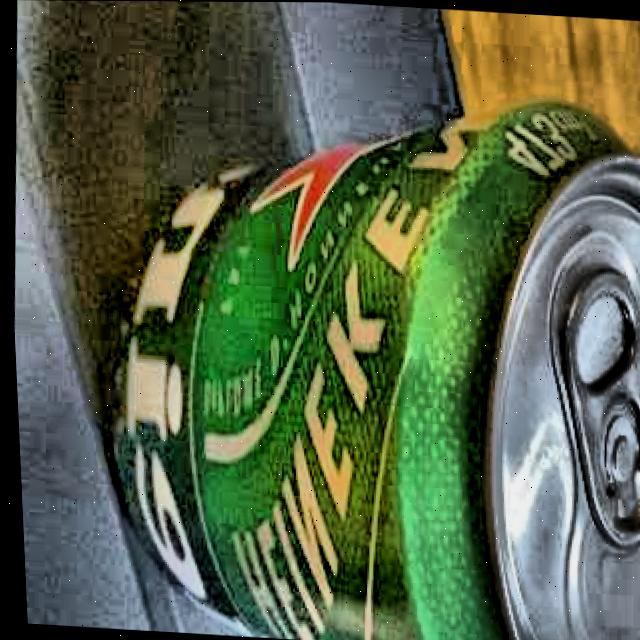metal: (43, 52, 640, 640)
